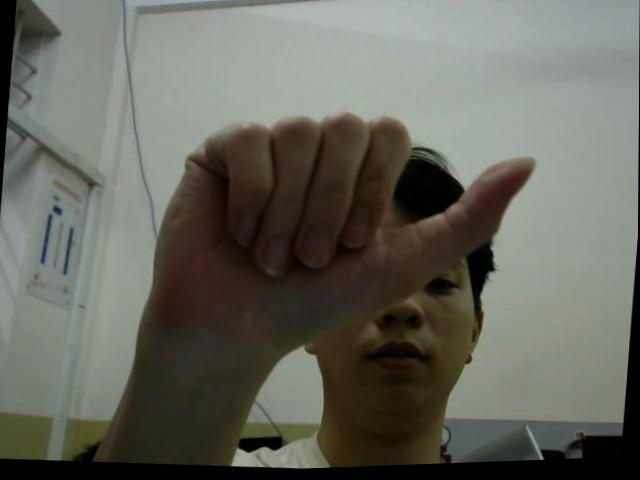A: (145, 94, 541, 364)
